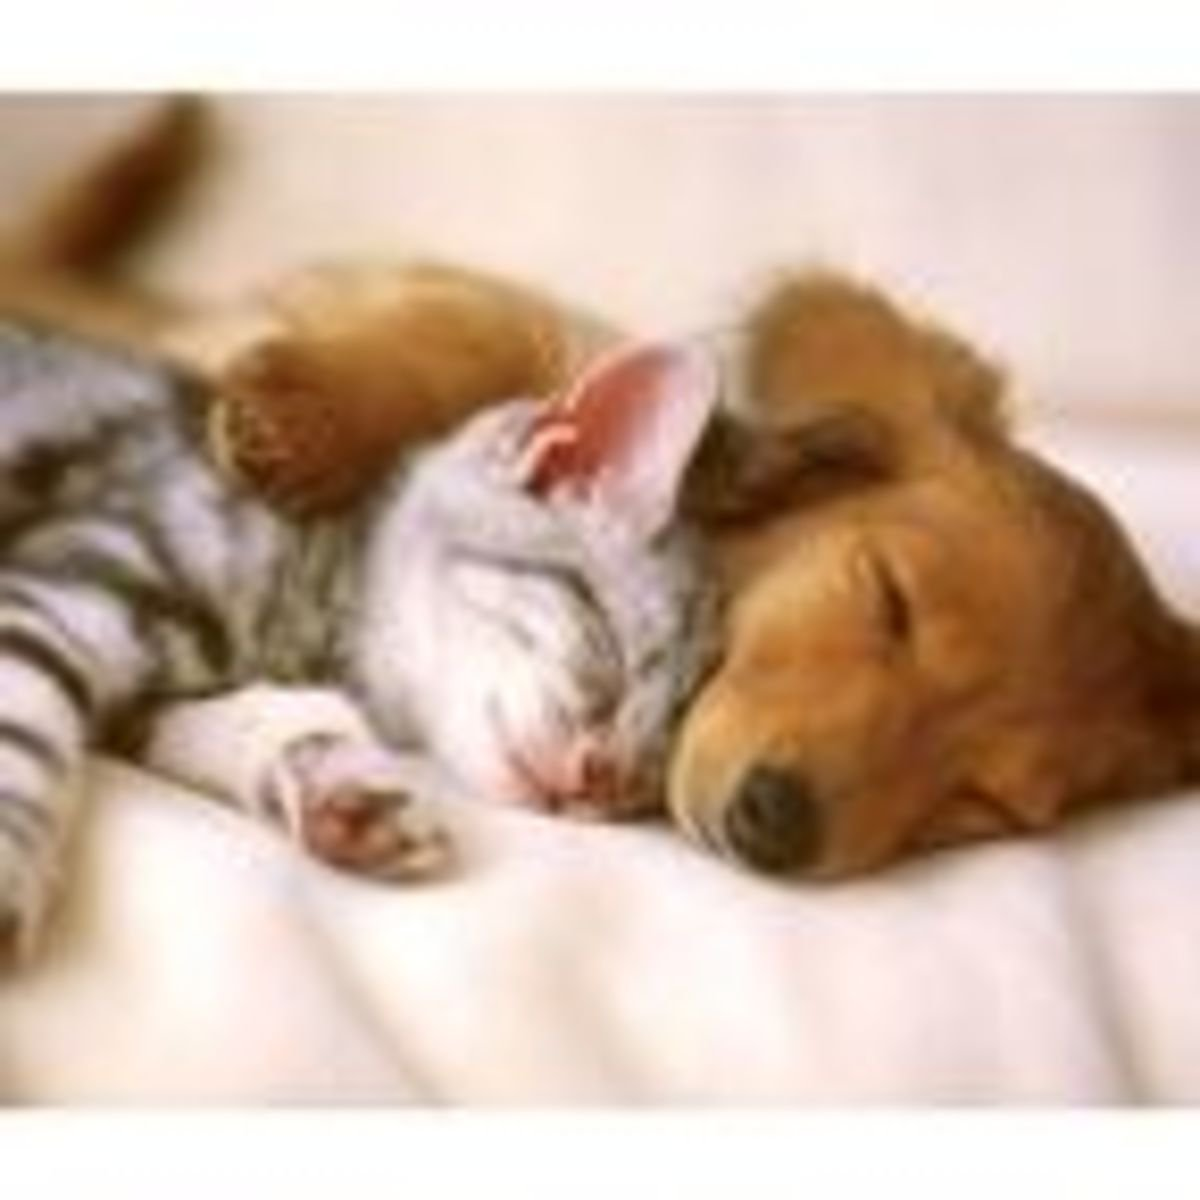cat: (14, 343, 736, 816)
dog: (532, 251, 1189, 869)
